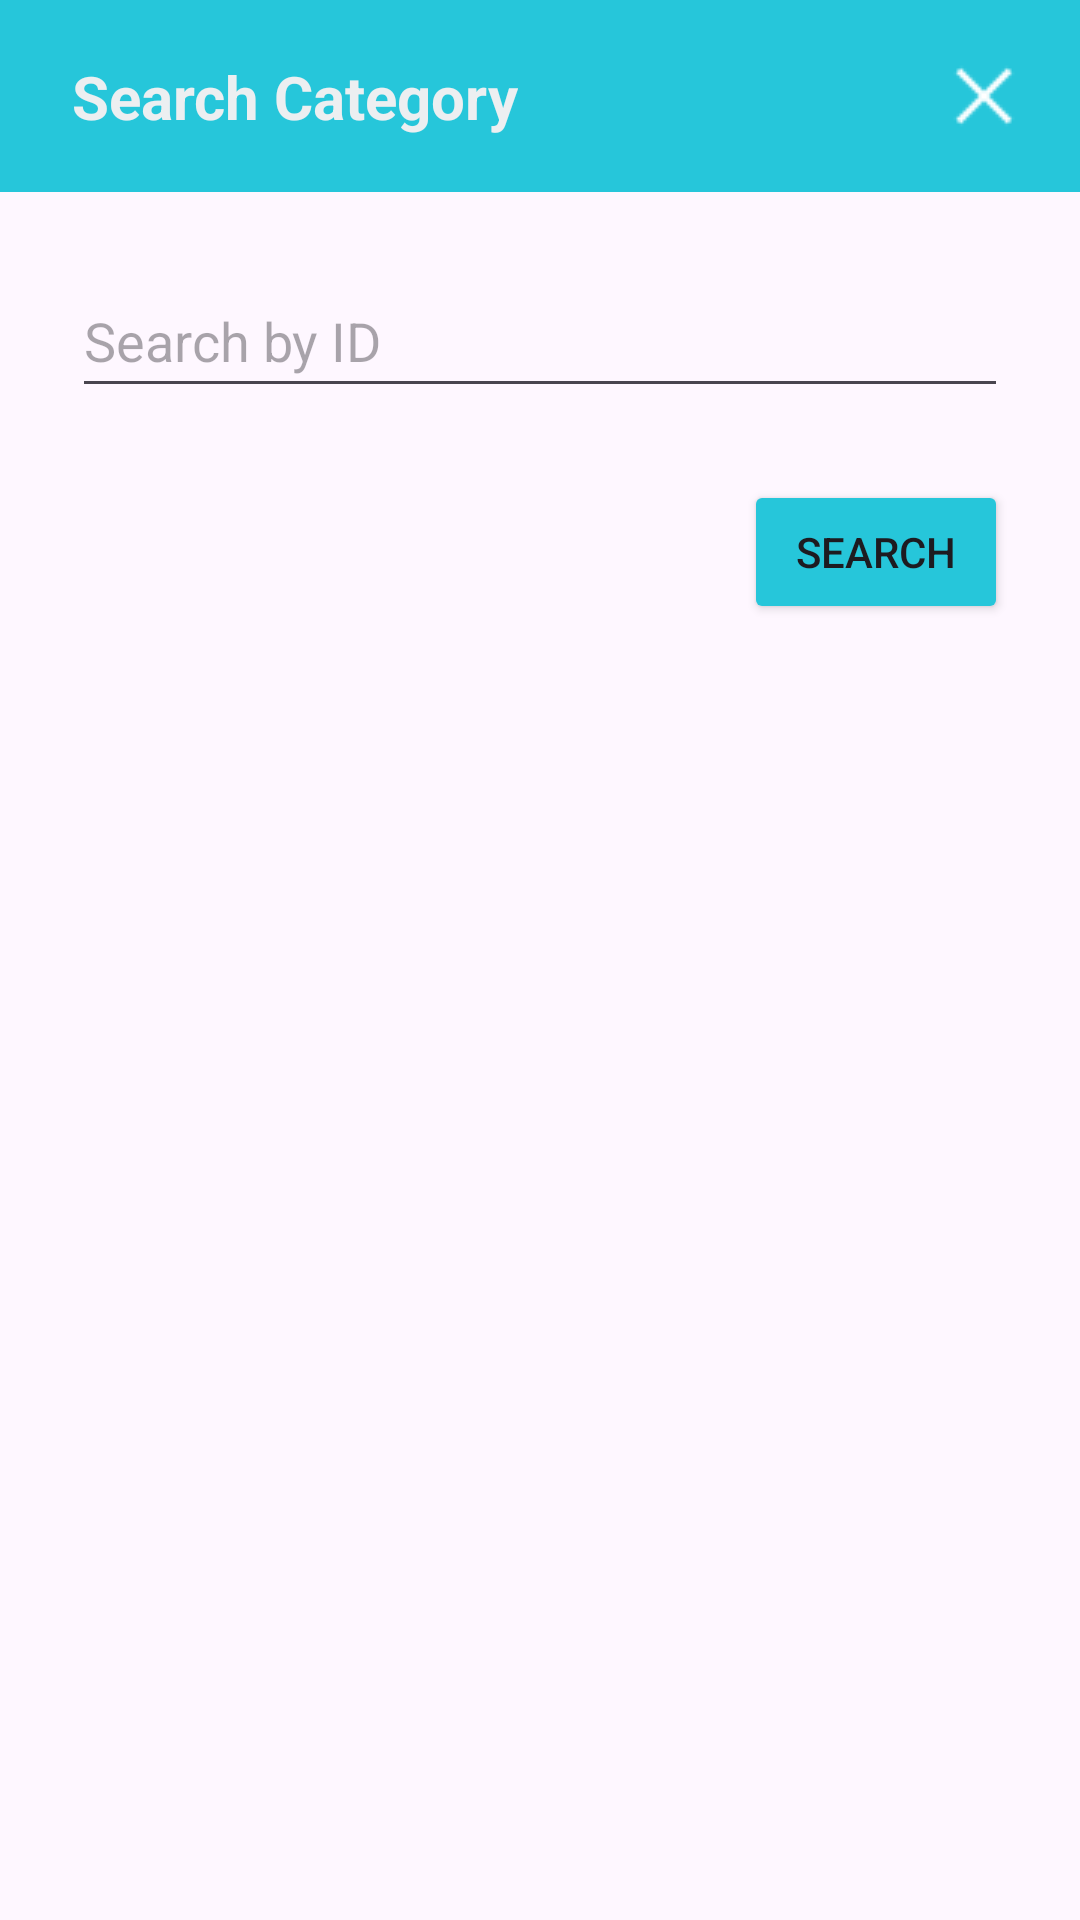

Screen size 1080 × 1920. Icon name, then its center in pixels as (x,y):
Close: (984,96)
